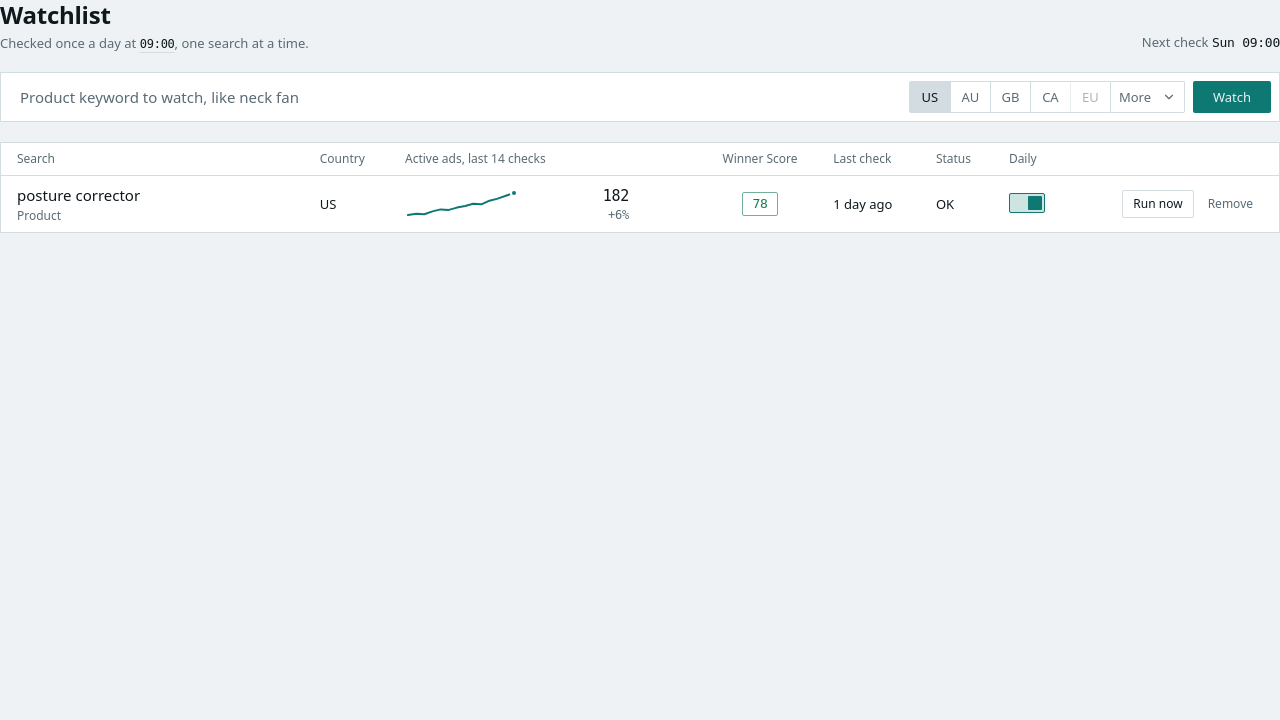
Test case: WatchlistPage › remove confirms
The image size is (1280, 720).
Check: the link "posture corrector" is shown, box [17,184,140,204]
Click the button with aria-label "Remove posture corrector" at (1230, 204), box [1198,190,1263,218]
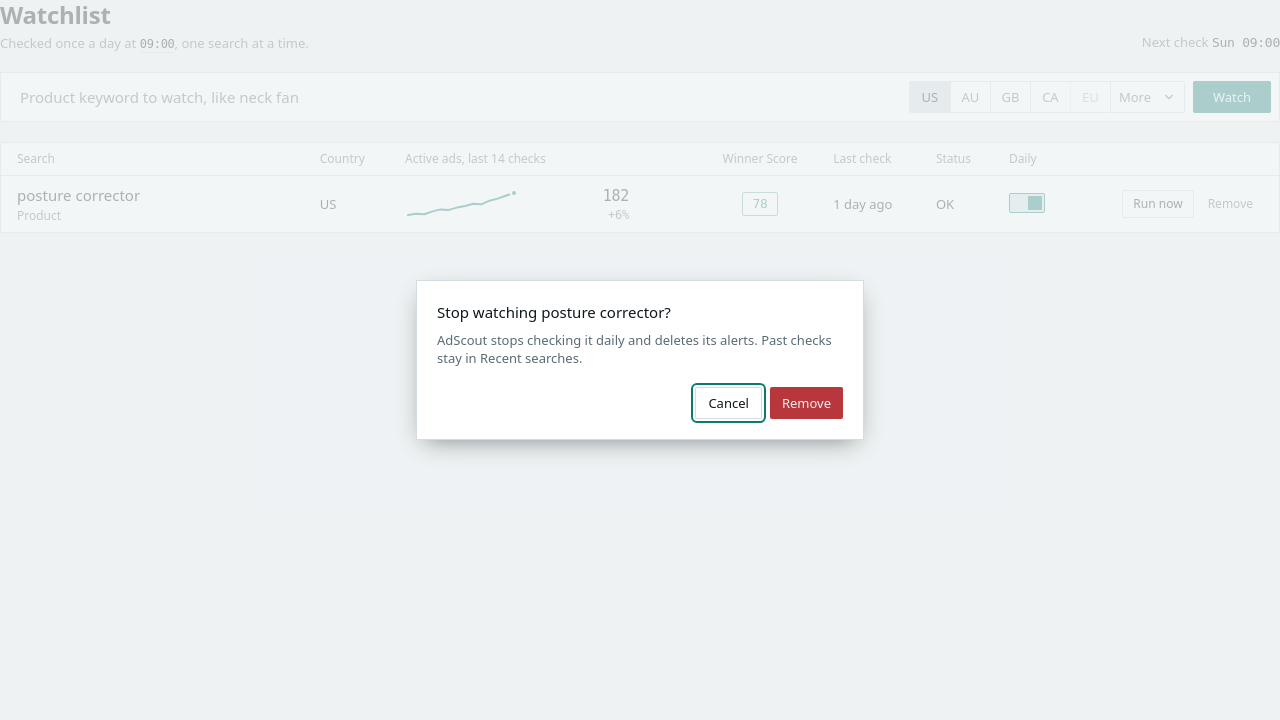
Check: the heading "Stop watching posture corrector?" is shown, box [437,302,671,322]
Click the button "Cancel" at (729, 403), box [695,387,762,419]
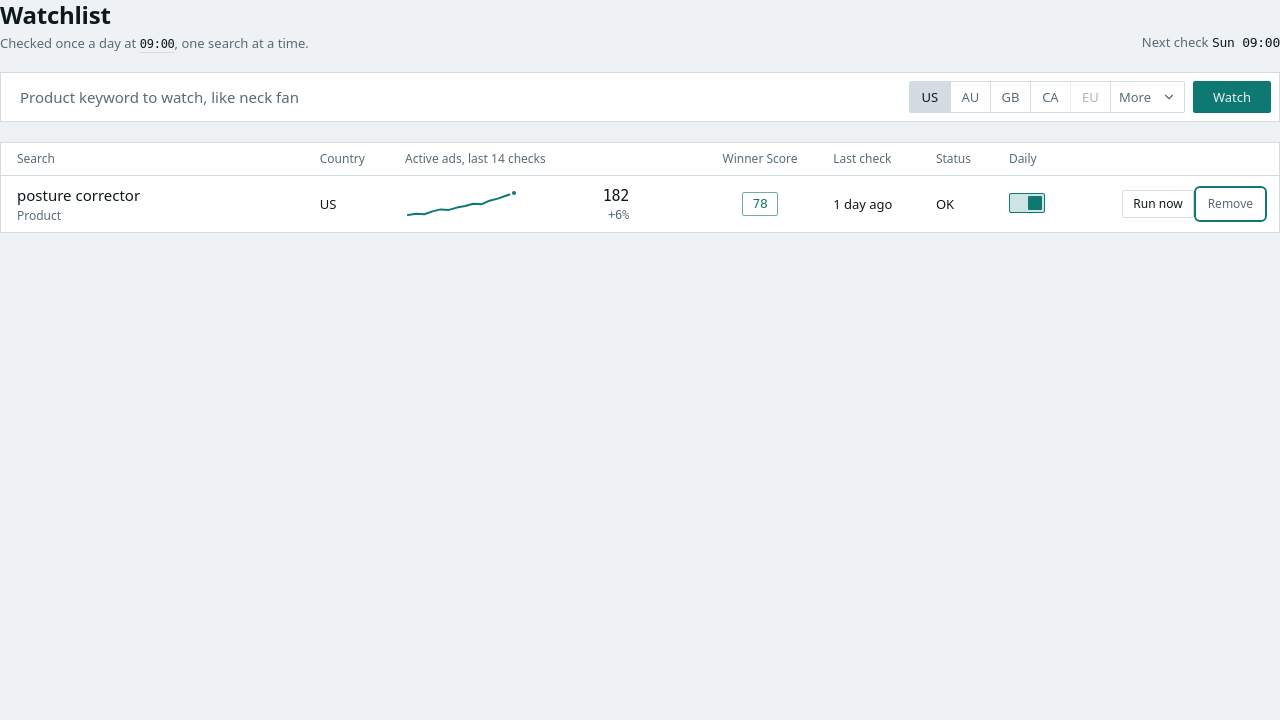
Click the button with aria-label "Remove posture corrector" at (1230, 204), box [1198,190,1263,218]
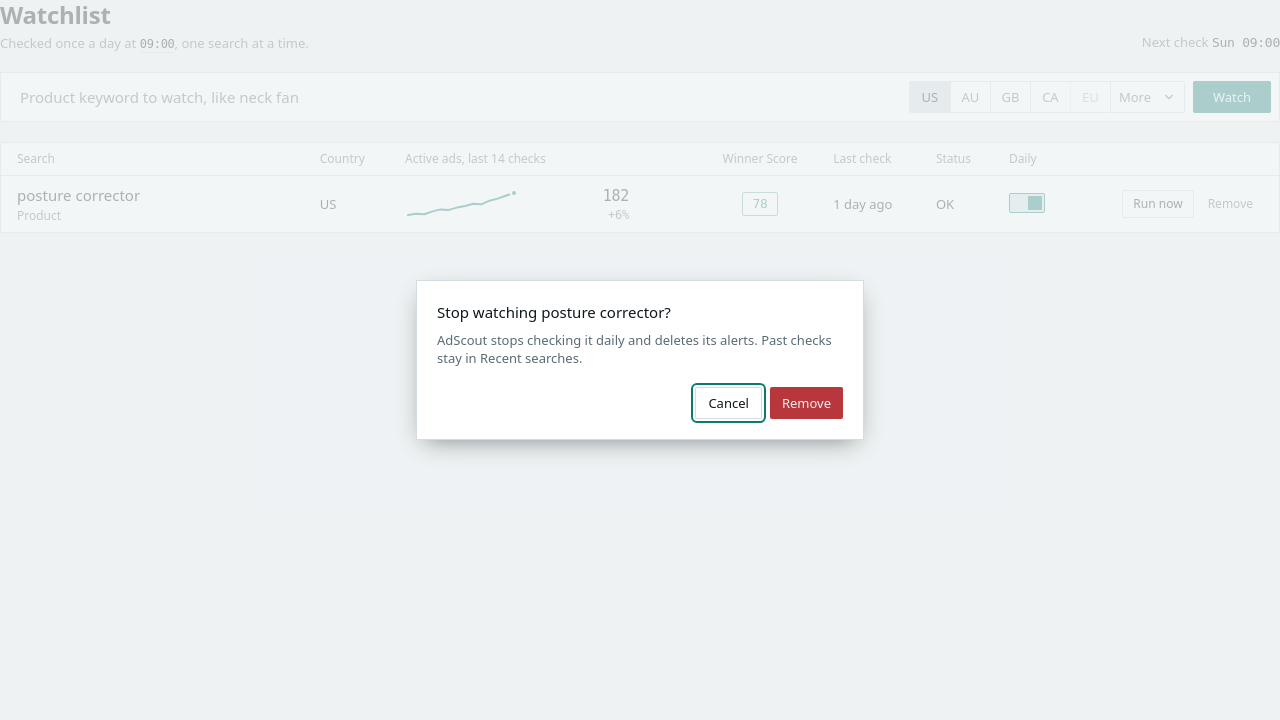
Click the button "Remove" at (806, 403), box [770,387,843,419]
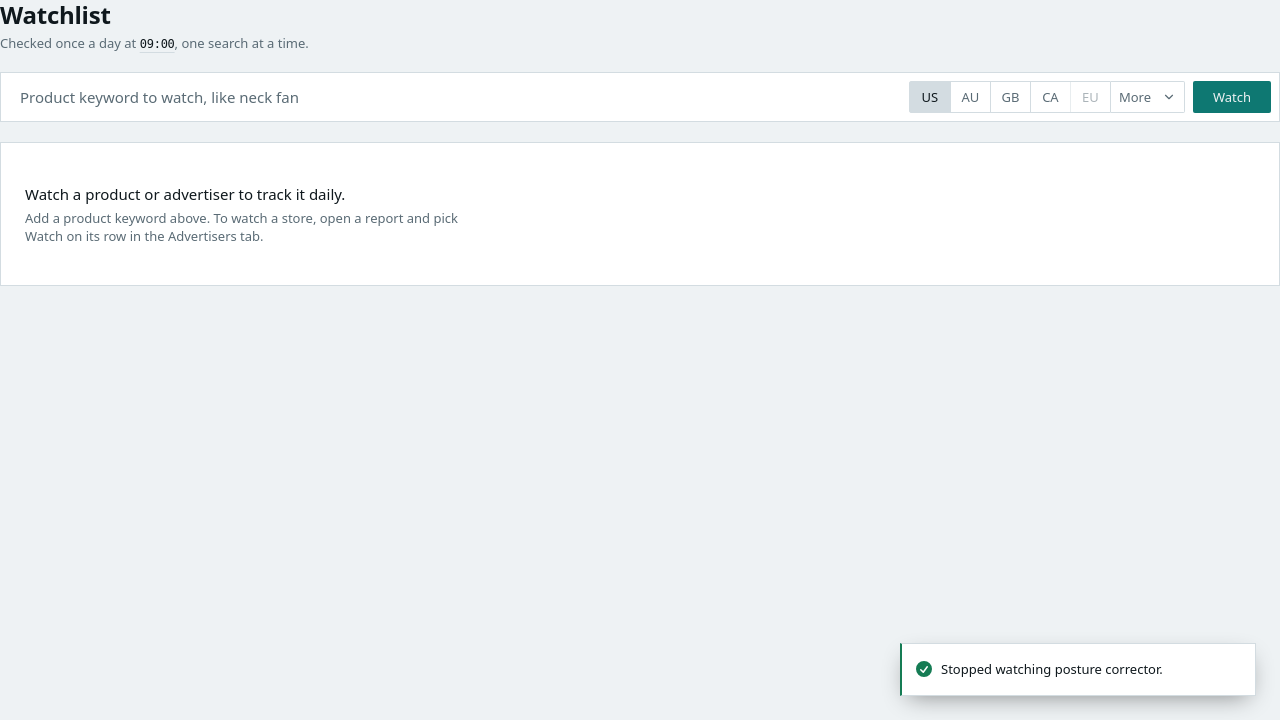
Check: the text "Watch a product or advertiser to track it daily." is shown, box [25,184,345,204]
